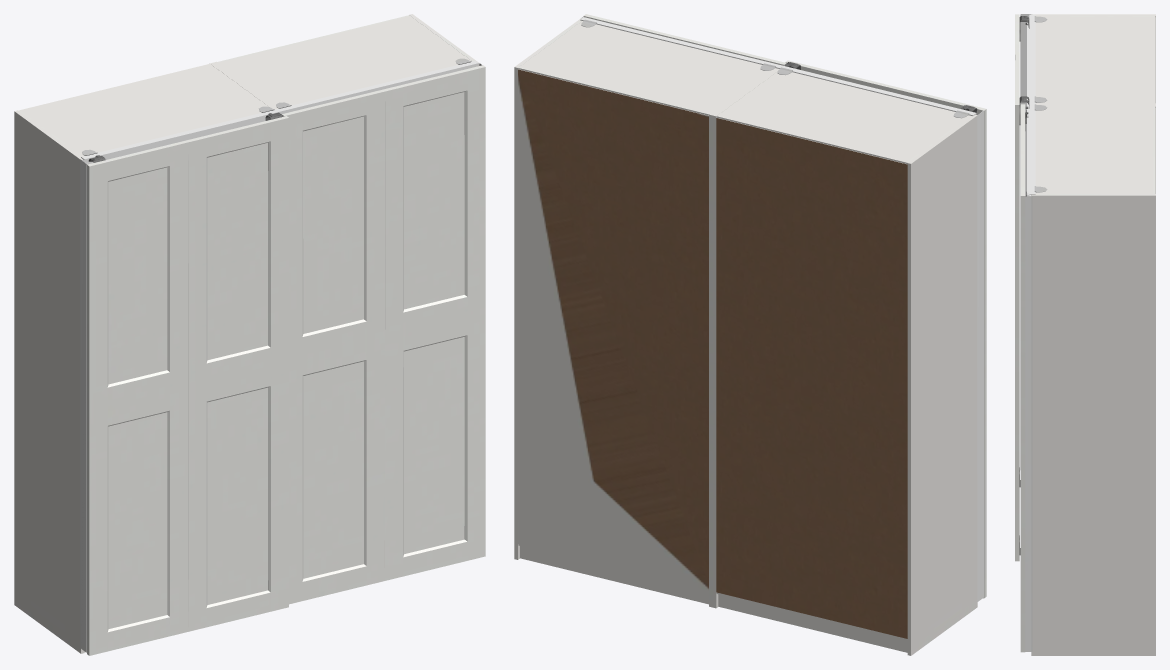
The model's file is pax_grimo_kombinacja_szafy_99432972.glb.
The picture shows the model from 3 angles, left to right: view 1: azimuth 30°, elevation 25°; view 2: azimuth 150°, elevation 25°; view 3: azimuth 270°, elevation 25°; orthographic projection. The views are drawn at different scales.
Visible parts, largest first — view 1: pax_grimo_kombinacja_szafy_99432972; view 2: pax_grimo_kombinacja_szafy_99432972; view 3: pax_grimo_kombinacja_szafy_99432972.
Part boxes in pixels (x1,y1,x2,y2): pax_grimo_kombinacja_szafy_99432972: [14, 14, 485, 655]; pax_grimo_kombinacja_szafy_99432972: [514, 14, 986, 655]; pax_grimo_kombinacja_szafy_99432972: [1015, 14, 1155, 655].
Bounding box in the file's own units: 2 × 2.38 × 0.6554.
Materials: 1 (1 with a texture image).
